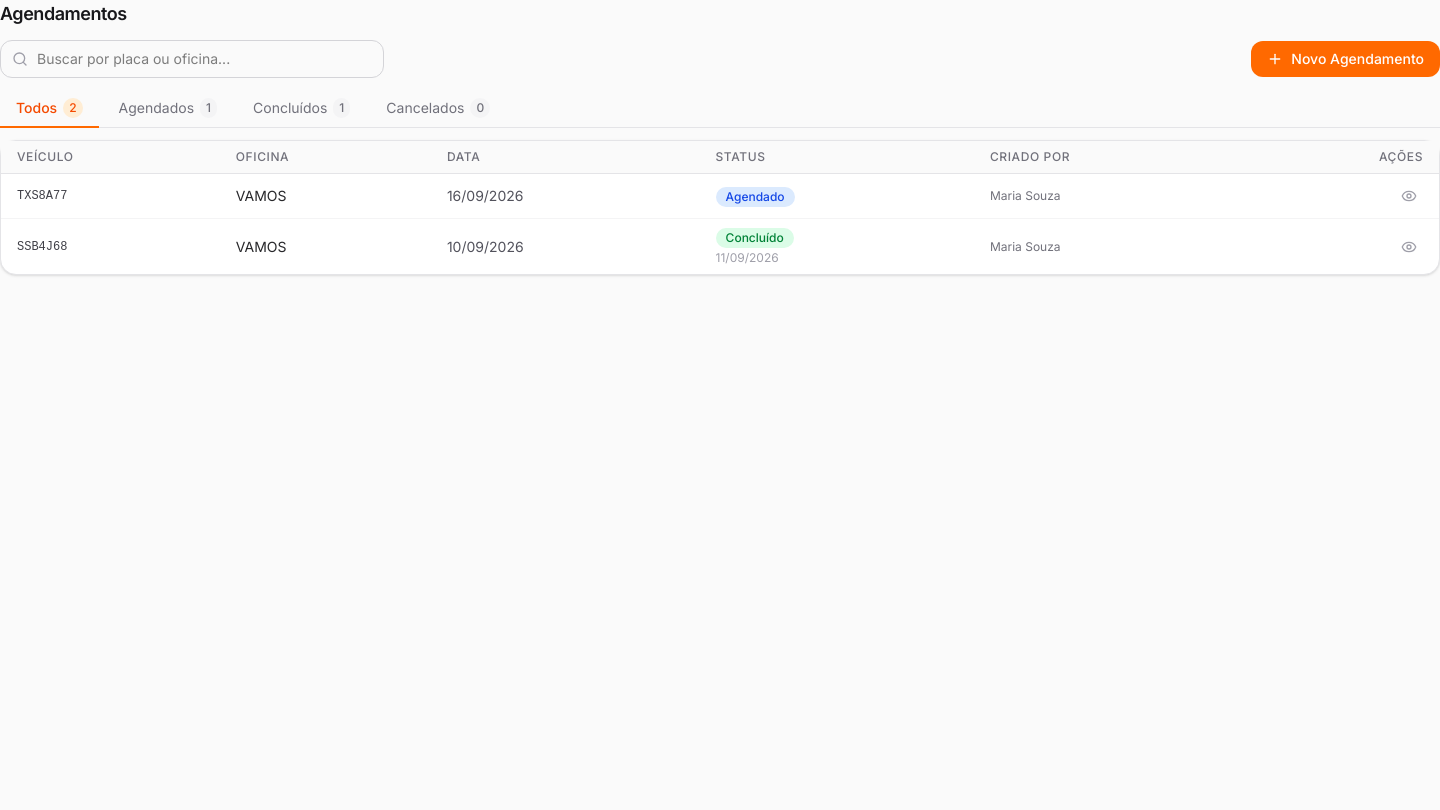
Scenario: WorkshopSchedules.actions › o modal do agendamento agendado concentra as cinco ações
This screenshot has width=1440, height=810.
Click the button named "Ver detalhes do agendamento" in the row of "TXS8A77".
click(1409, 196)  # box [1395, 182, 1423, 210]
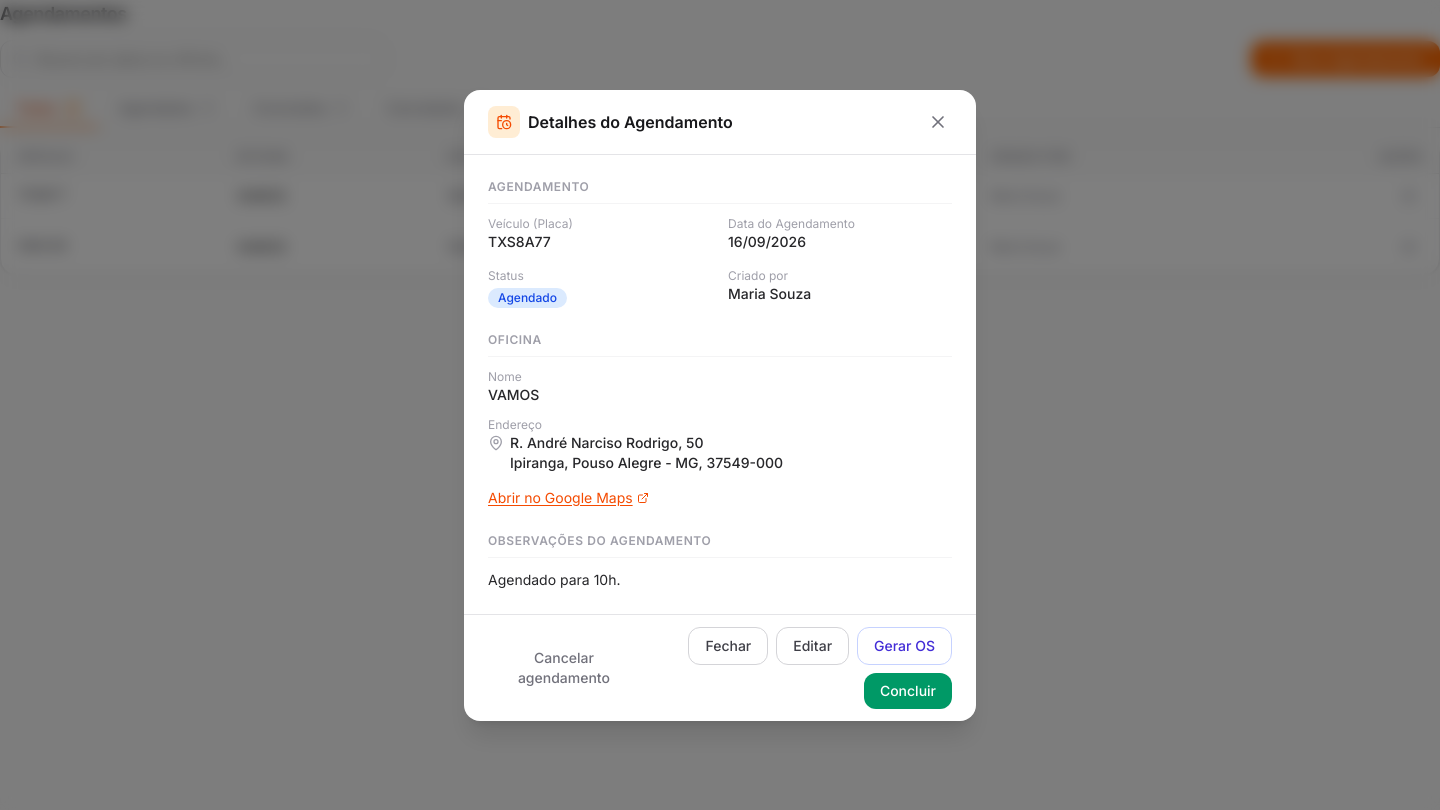
Check: the text "Detalhes do Agendamento" is shown, box [528, 110, 733, 134]
